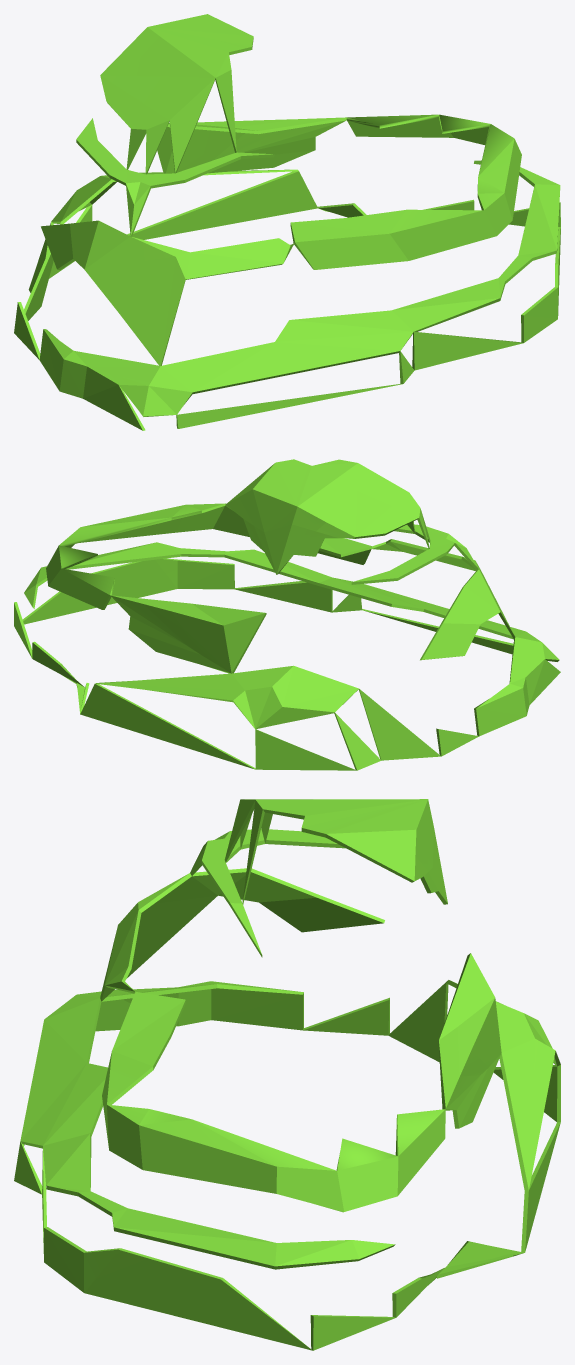
File: Moss_RockCliff-03.fbx
3 views of the same model, one above another, from view 1: azimuth 30°, elevation 25°; view 2: azimuth 150°, elevation 25°; view 3: azimuth 270°, elevation 25° (orthographic). The views are drawn at different scales.
Parts seen in each view (by area): view 1: Moss_Green_RockCliff-03; view 2: Moss_Green_RockCliff-03; view 3: Moss_Green_RockCliff-03.
Part boxes in pixels (left/top/right/bottom): Moss_Green_RockCliff-03: left=14, top=14, right=560, bottom=430; Moss_Green_RockCliff-03: left=14, top=459, right=560, bottom=770; Moss_Green_RockCliff-03: left=14, top=799, right=560, bottom=1350.
Size of the model in its own units: 1841 by 860 by 1279.
